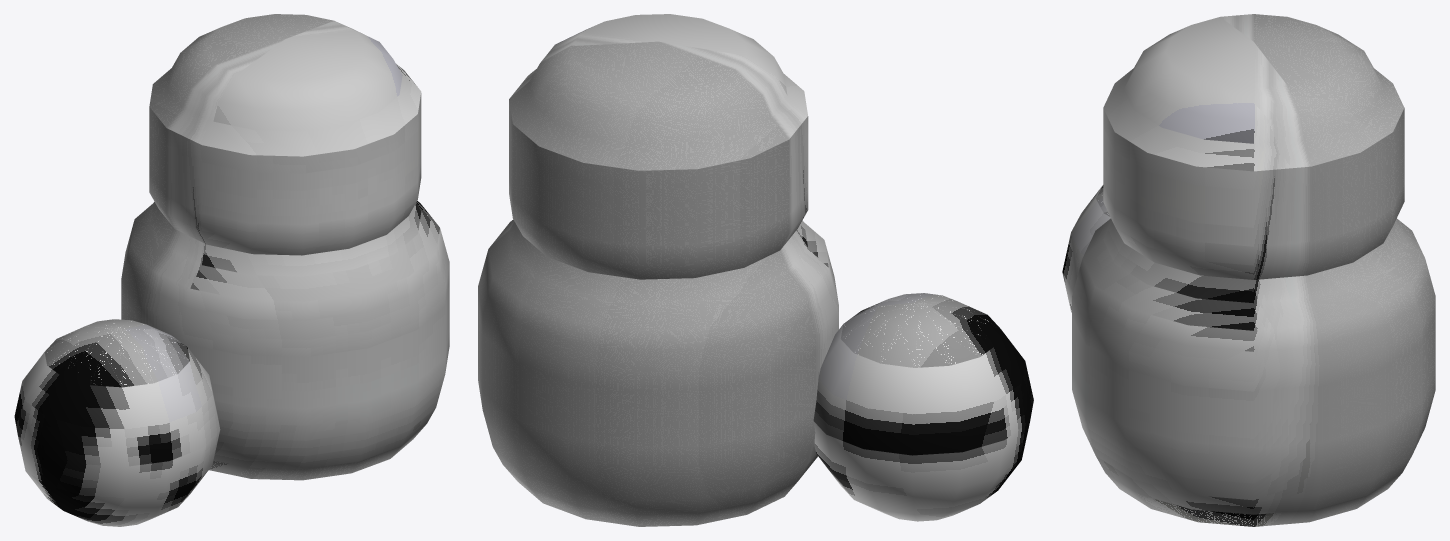
Rendered from Building_Snowman__D.obj.
3 views of the same model, side by side, from view 1: azimuth 30°, elevation 25°; view 2: azimuth 150°, elevation 25°; view 3: azimuth 270°, elevation 25° (orthographic). The views are drawn at different scales.
Parts seen in each view (by area): view 1: Body; view 2: Body; view 3: Body.
Boxes of the visible parts, box(x1,y1,x2,y2) form: Body: box(14, 14, 449, 526); Body: box(478, 14, 1033, 526); Body: box(1062, 14, 1435, 526).
Bounding box in the file's own units: 0.8552 × 0.7581 × 0.5797.
Materials: 1 (1 with a texture image).
